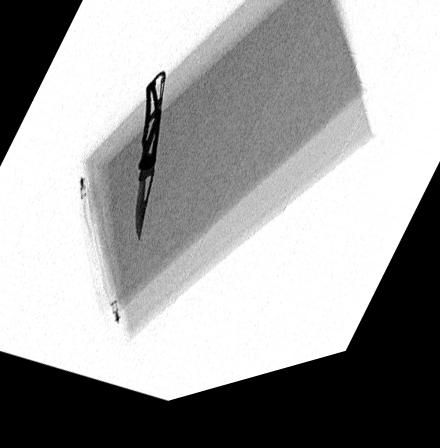Knife: (132, 78, 165, 250)
